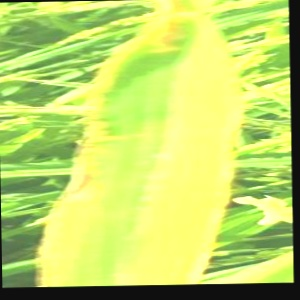Leaf_Blast: (69, 0, 238, 283)
